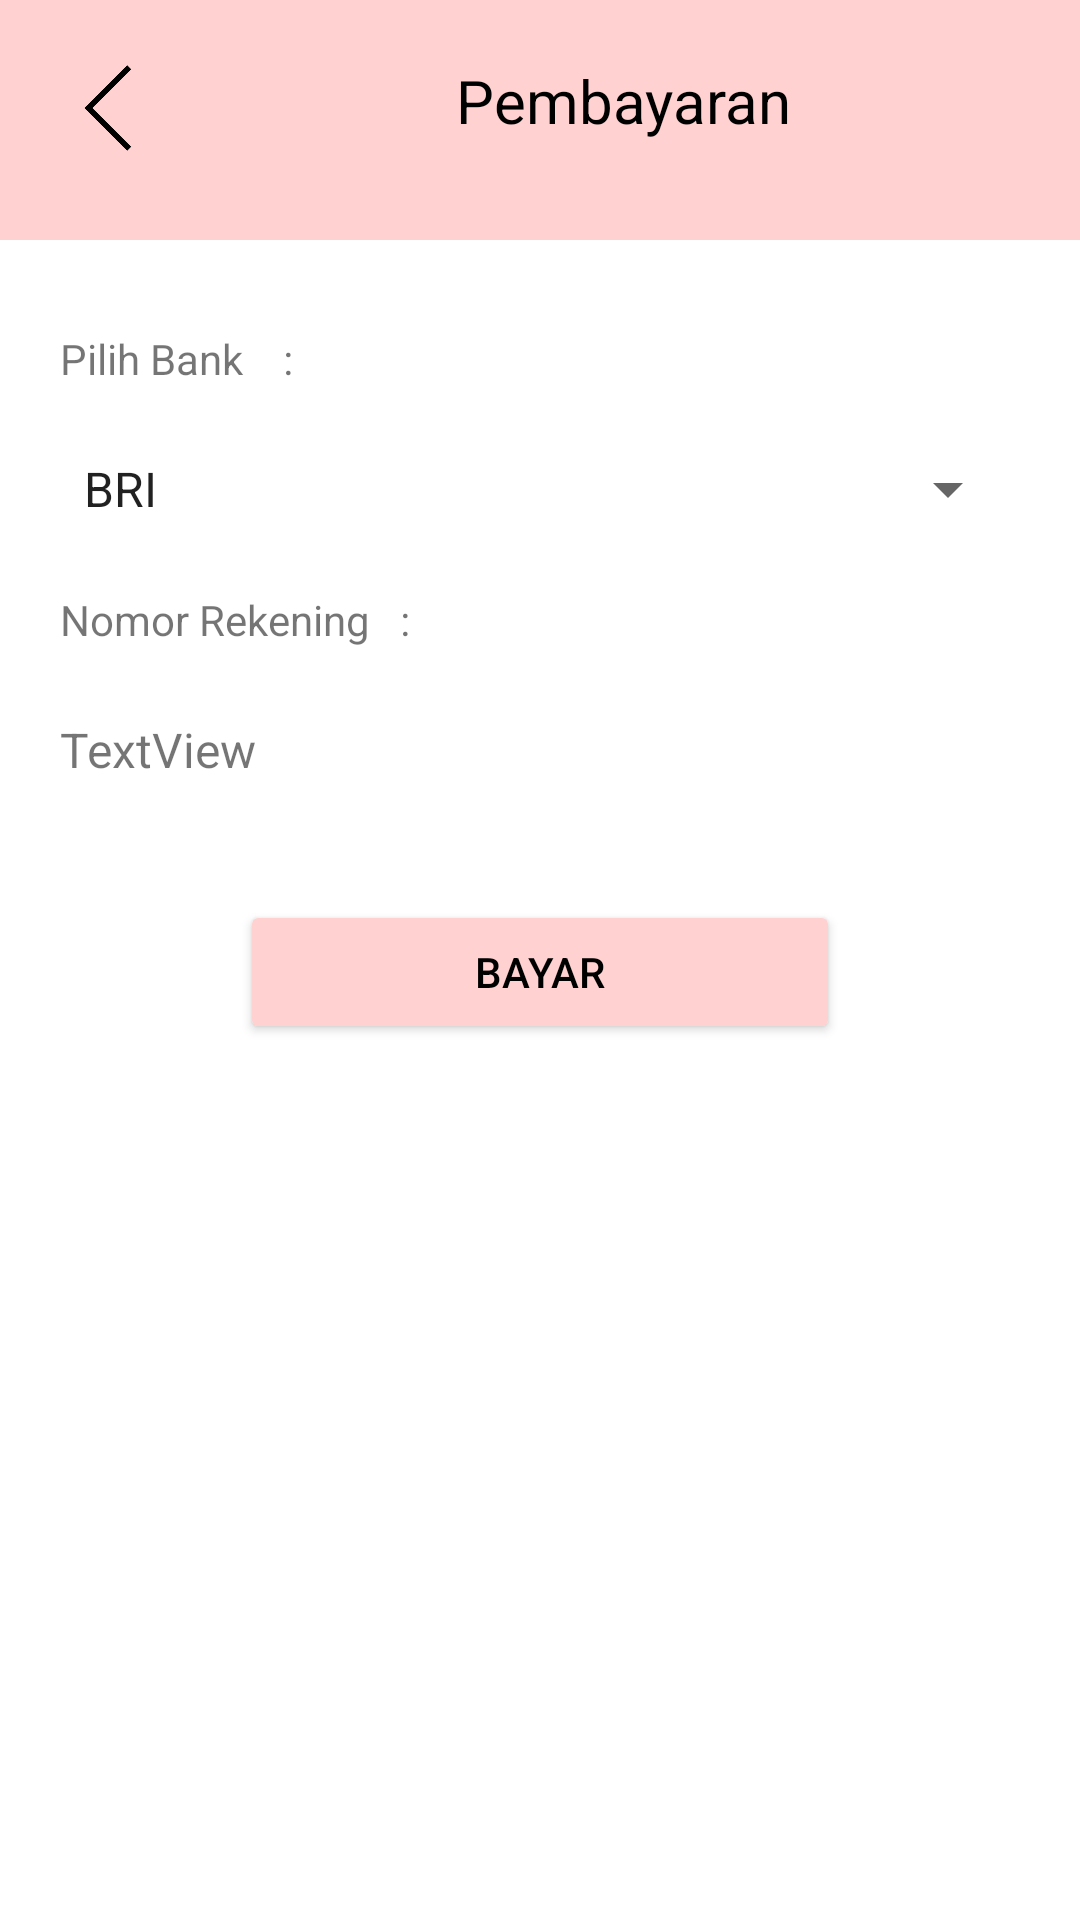

Icons on this 1080 × 1920 Android screen, each with the point to tap as [x,y]:
backk: [108,108]
